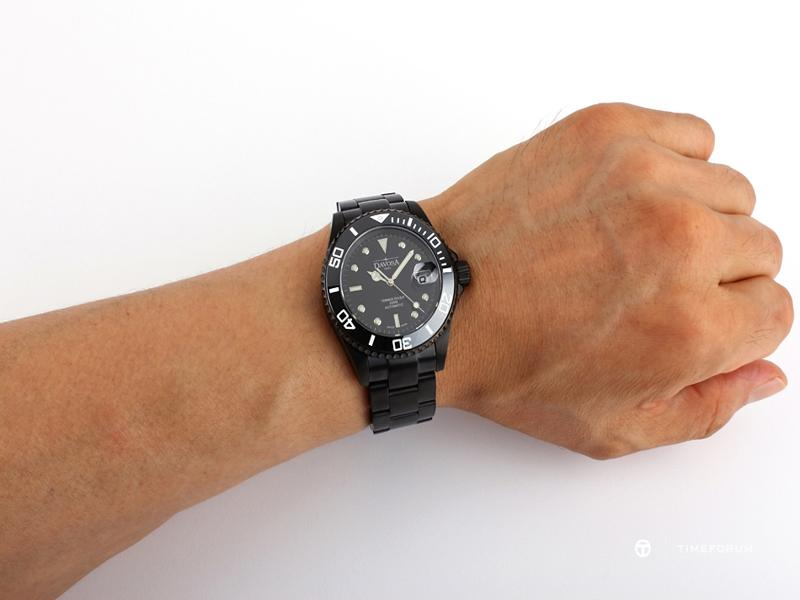watch: (322, 190, 473, 434)
